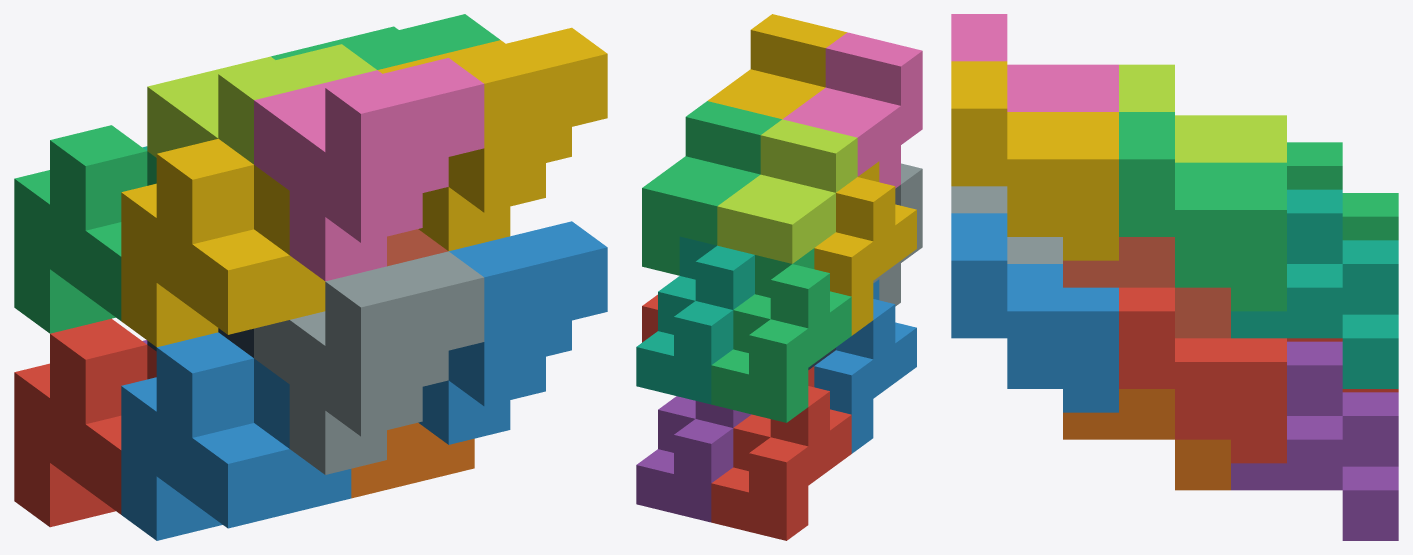
File: tiling.obj
3 views of the same model, side by side, from view 1: azimuth 30°, elevation 25°; view 2: azimuth 150°, elevation 25°; view 3: azimuth 270°, elevation 25° (orthographic). The views are drawn at different scales.
Parts seen in each view (by area): view 1: copy_2_domain_4, copy_1_domain_2, copy_2_domain_2, copy_1_domain_4, copy_2_domain_8, copy_2_domain_6, copy_1_domain_1, copy_1_domain_3, copy_2_domain_3, copy_1_domain_6, copy_2_domain_7, copy_1_domain_8; view 2: copy_1_domain_3, copy_2_domain_3, copy_1_domain_1, copy_2_domain_7, copy_1_domain_7, copy_2_domain_4, copy_1_domain_4, copy_1_domain_5, copy_2_domain_8, copy_1_domain_2, copy_2_domain_2, copy_2_domain_5; view 3: copy_2_domain_7, copy_2_domain_8, copy_2_domain_6, copy_2_domain_5, copy_1_domain_5, copy_1_domain_7, copy_2_domain_4, copy_2_domain_3, copy_1_domain_6, copy_1_domain_8, copy_1_domain_3, copy_2_domain_2.
Part boxes in pixels (<box>): copy_2_domain_4: <box>254,58,484,281</box>; copy_1_domain_2: <box>121,332,351,540</box>; copy_2_domain_2: <box>254,251,484,474</box>; copy_1_domain_4: <box>121,138,325,347</box>; copy_2_domain_8: <box>377,27,607,251</box>; copy_2_domain_6: <box>418,221,607,444</box>; copy_1_domain_1: <box>14,318,156,527</box>; copy_1_domain_3: <box>14,125,156,333</box>; copy_2_domain_3: <box>147,44,376,164</box>; copy_1_domain_6: <box>351,422,474,498</box>; copy_2_domain_7: <box>271,14,499,69</box>; copy_1_domain_8: <box>387,229,447,266</box>; copy_1_domain_3: <box>711,248,851,422</box>; copy_2_domain_3: <box>717,119,857,263</box>; copy_1_domain_1: <box>711,366,851,540</box>; copy_2_domain_7: <box>642,101,781,275</box>; copy_1_domain_7: <box>636,236,754,404</box>; copy_2_domain_4: <box>783,32,922,188</box>; copy_1_domain_4: <box>814,161,916,335</box>; copy_1_domain_5: <box>636,396,751,522</box>; copy_2_domain_8: <box>707,14,846,119</box>; copy_1_domain_2: <box>814,279,916,453</box>; copy_2_domain_2: <box>873,163,922,306</box>; copy_2_domain_5: <box>642,294,657,342</box>; copy_2_domain_7: <box>1119,112,1286,311</box>; copy_2_domain_8: <box>951,61,1118,260</box>; copy_2_domain_6: <box>951,213,1118,412</box>; copy_2_domain_5: <box>1119,287,1286,463</box>; copy_1_domain_5: <box>1231,341,1398,540</box>; copy_1_domain_7: <box>1231,189,1398,388</box>; copy_2_domain_4: <box>951,14,1118,111</box>; copy_2_domain_3: <box>1119,64,1286,162</box>; copy_1_domain_6: <box>1063,389,1230,490</box>; copy_1_domain_8: <box>1063,237,1230,338</box>; copy_1_domain_3: <box>1287,142,1398,240</box>; copy_2_domain_2: <box>951,186,1062,263</box>.
Bounding box in the file's own units: 5 × 9 × 8.
